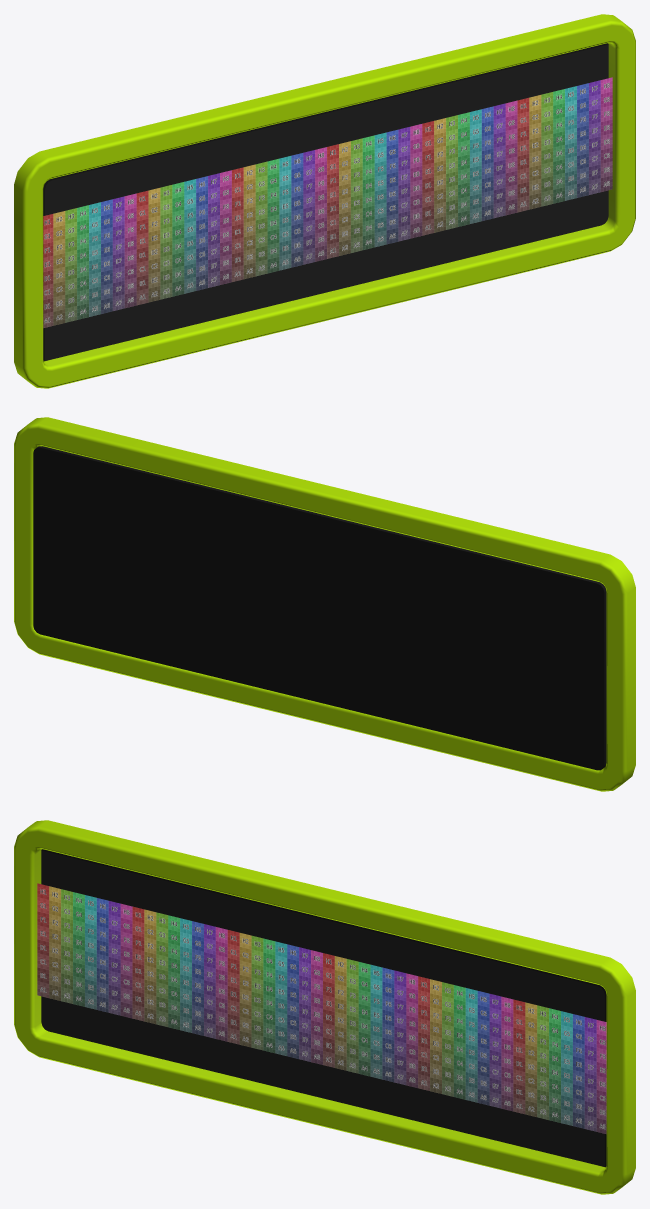
Rendered from electronic-display-board.glb.
The picture shows the model from 3 angles, top to bottom: view 1: azimuth 30°, elevation 25°; view 2: azimuth 150°, elevation 25°; view 3: azimuth 330°, elevation 25°; orthographic projection.
Parts seen in each view (by area): view 1: __X_DISPLAY__, __X_BODY__cover, Body; view 2: Body, __X_BODY__cover; view 3: __X_DISPLAY__, __X_BODY__cover, Body.
Part boxes in pixels (box(x1,y1,x2,y2)): __X_DISPLAY__: box(43, 77, 612, 327); __X_BODY__cover: box(14, 14, 635, 388); Body: box(43, 43, 608, 361); Body: box(33, 446, 606, 770); __X_BODY__cover: box(14, 417, 635, 791); __X_DISPLAY__: box(37, 883, 606, 1133); __X_BODY__cover: box(14, 820, 635, 1194); Body: box(41, 849, 606, 1167).
Bounding box in the file's own units: 0.8595 × 0.3095 × 0.03.
4 materials, 1 textured.
